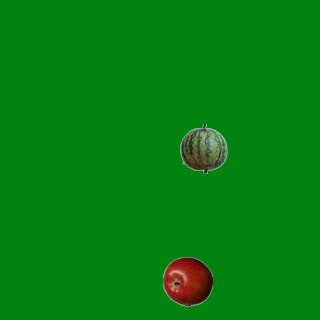Apple Braeburn: (162, 256, 212, 306)
Watermelon: (178, 123, 228, 173)
